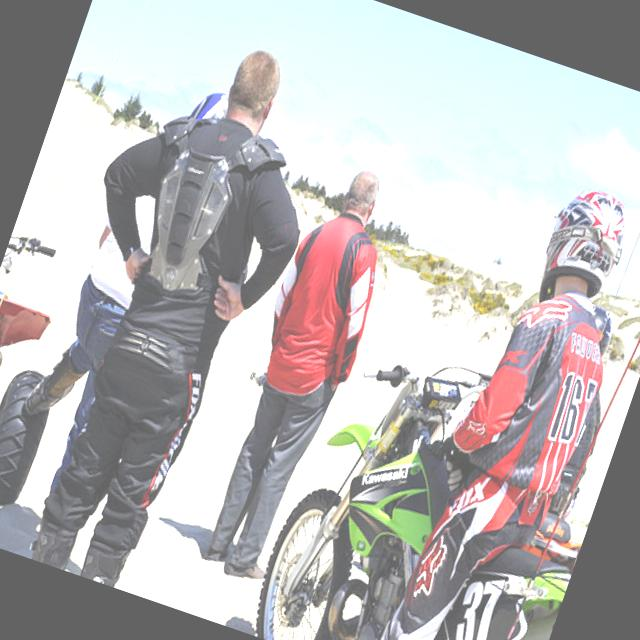Vehicle: (242, 334, 620, 640), (0, 228, 105, 511)
